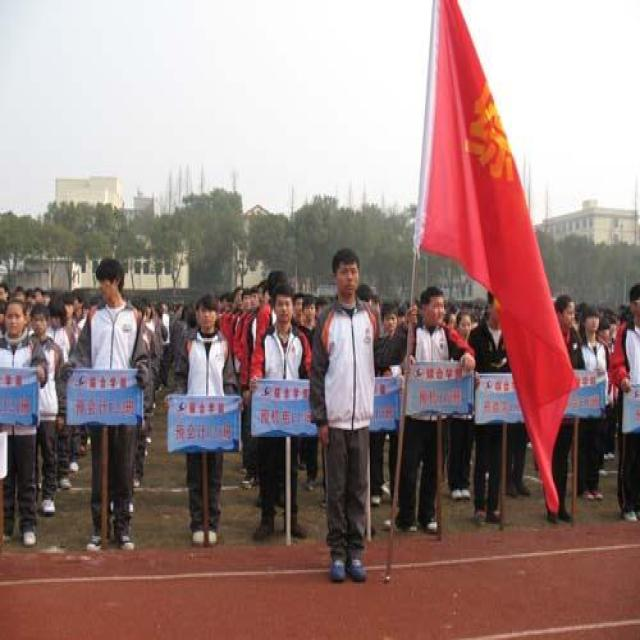non-fight: (307, 246, 384, 584), (66, 256, 152, 553), (393, 281, 470, 536), (242, 273, 306, 544), (0, 295, 61, 547), (174, 292, 233, 546), (609, 285, 639, 527)
